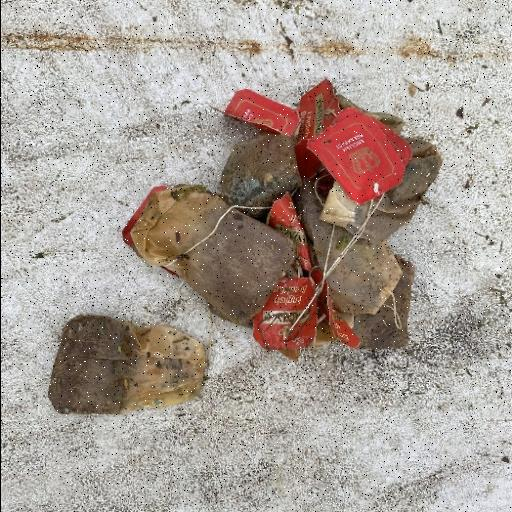Waste: (122, 77, 444, 359), (123, 182, 298, 328), (46, 312, 208, 416)
